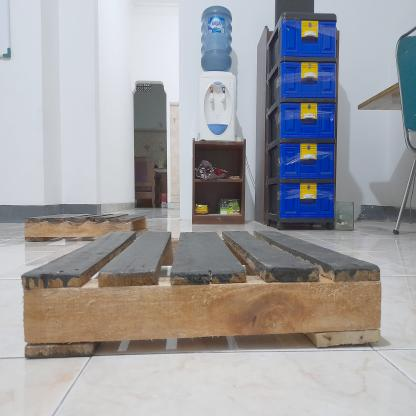Wooden-Pallet: (17, 225, 384, 365)
